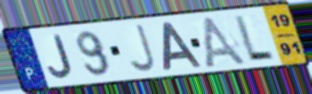9: (75, 28, 113, 78)
A: (201, 13, 251, 67), (162, 20, 204, 72)
J: (127, 22, 158, 74), (46, 33, 74, 80)
L: (232, 14, 277, 61)
